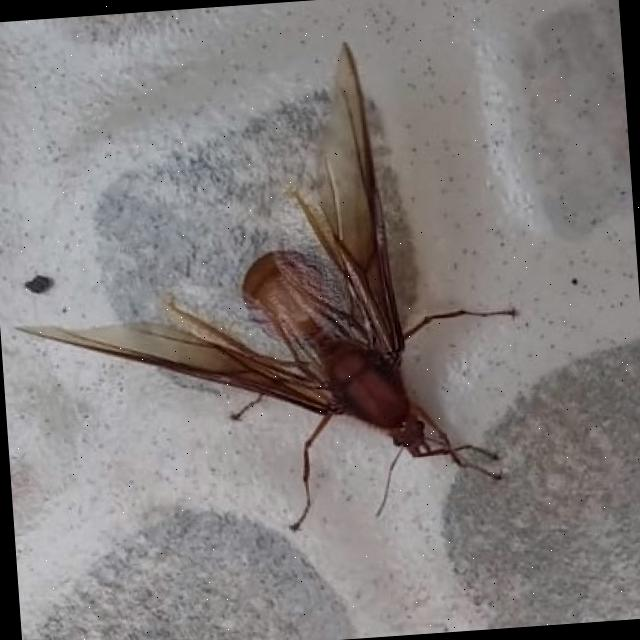Alive-Male-Alate: (0, 29, 534, 553)
